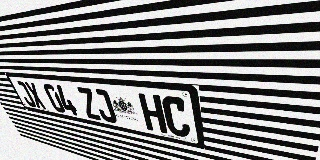0: (42, 83, 66, 113)
4: (53, 85, 79, 116)
C: (161, 95, 191, 138)
H: (138, 93, 168, 134)
J: (91, 88, 118, 124), (14, 81, 37, 108)
X: (24, 82, 47, 110)
Z: (76, 87, 102, 121)
